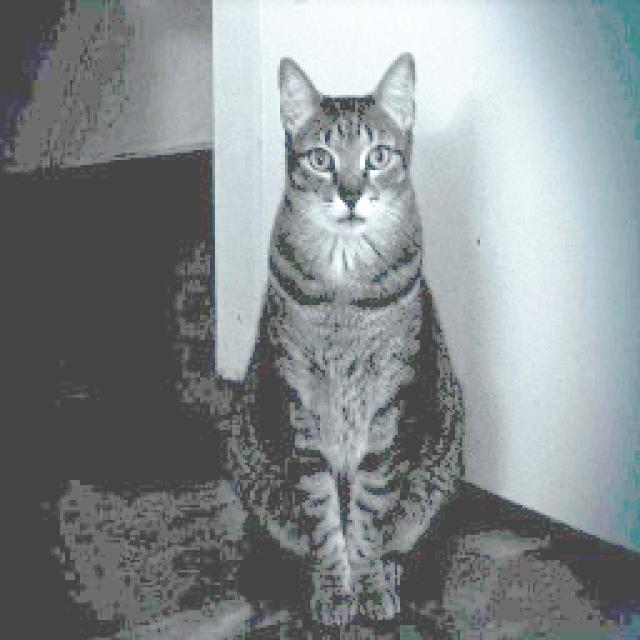cat: (231, 37, 513, 616)
